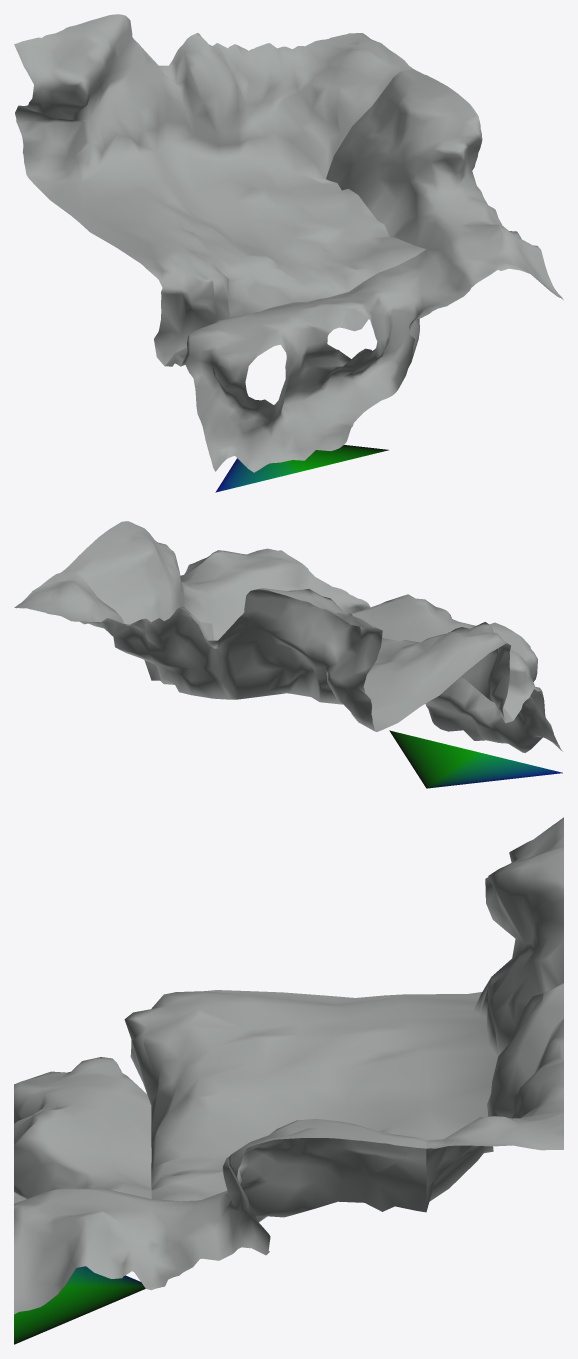
The picture shows the model from 3 angles, top to bottom: view 1: azimuth 30°, elevation 25°; view 2: azimuth 150°, elevation 25°; view 3: azimuth 270°, elevation 25°; orthographic projection. The views are drawn at different scales.
Visible parts, largest first — view 1: G:\FFXIV-MapTools\exports\l1f1\bg\ffxiv\lak_l1\fld\l1f1\bgpl (×13); view 2: G:\FFXIV-MapTools\exports\l1f1\bg\ffxiv\lak_l1\fld\l1f1\bgpl (×12); view 3: G:\FFXIV-MapTools\exports\l1f1\bg\ffxiv\lak_l1\fld\l1f1\bgpl (×14).
Part boxes in pixels (x1,y1,x2,y2): G:\FFXIV-MapTools\exports\l1f1\bg\ffxiv\lak_l1\fld\l1f1\bgpl (×13): (14, 14, 557, 492); G:\FFXIV-MapTools\exports\l1f1\bg\ffxiv\lak_l1\fld\l1f1\bgpl (×12): (14, 521, 562, 788); G:\FFXIV-MapTools\exports\l1f1\bg\ffxiv\lak_l1\fld\l1f1\bgpl (×14): (14, 817, 563, 1344).
Size of the model in its own units: 128 by 108 by 128.
